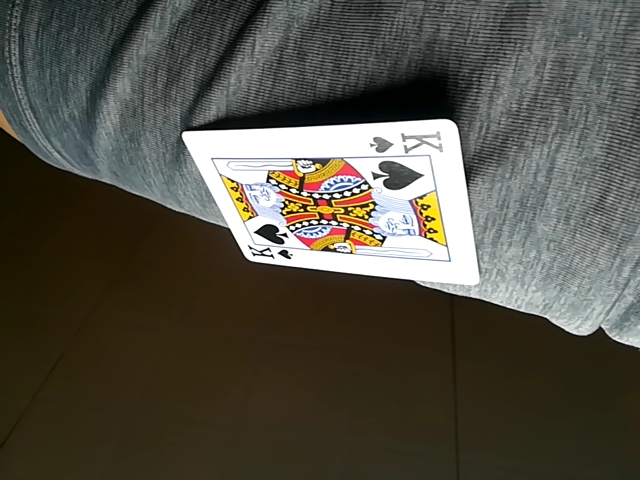ht k: (185, 119, 477, 287)
